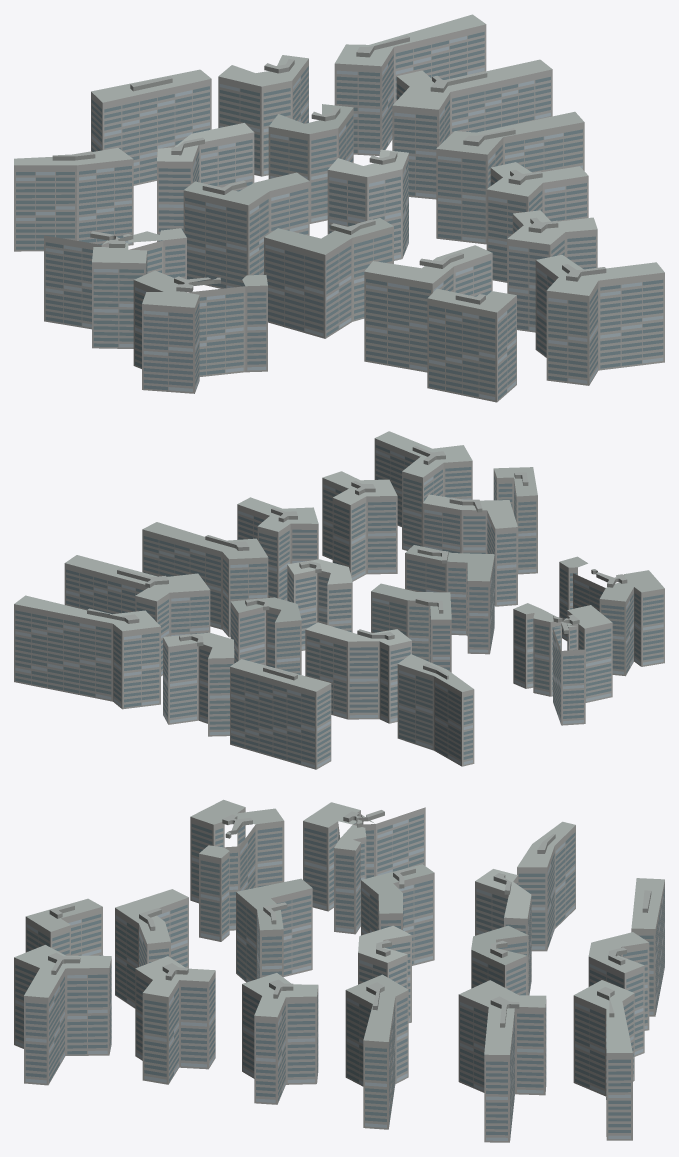
File: apt-a12201003.glb
3 views of the same model, one above another, from view 1: azimuth 30°, elevation 25°; view 2: azimuth 150°, elevation 25°; view 3: azimuth 270°, elevation 25° (orthographic). The views are drawn at different scales.
Visible parts, largest first — view 1: apt-a12201003; view 2: apt-a12201003; view 3: apt-a12201003.
Part boxes in pixels (x1,y1,x2,y2): apt-a12201003: (14, 14, 664, 402); apt-a12201003: (14, 431, 664, 769); apt-a12201003: (14, 799, 664, 1142).
Size of the model in its own units: 280 by 46 by 296.
